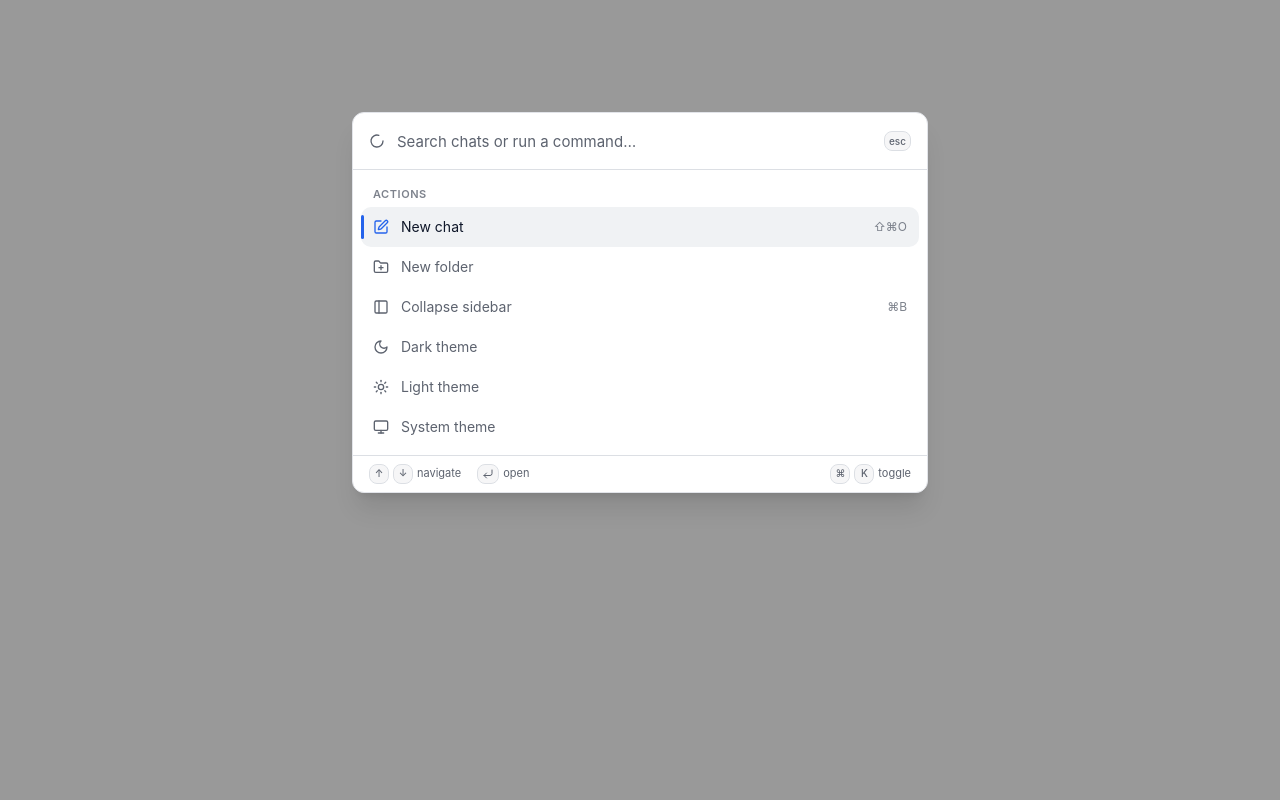
Scenario: CommandPalette › never shows the previous results as matches while a search is pending
Immediately after typing, the server search has not caught up yet.
In the dropdown: (634, 141) [397,113,872,169], type "pg"
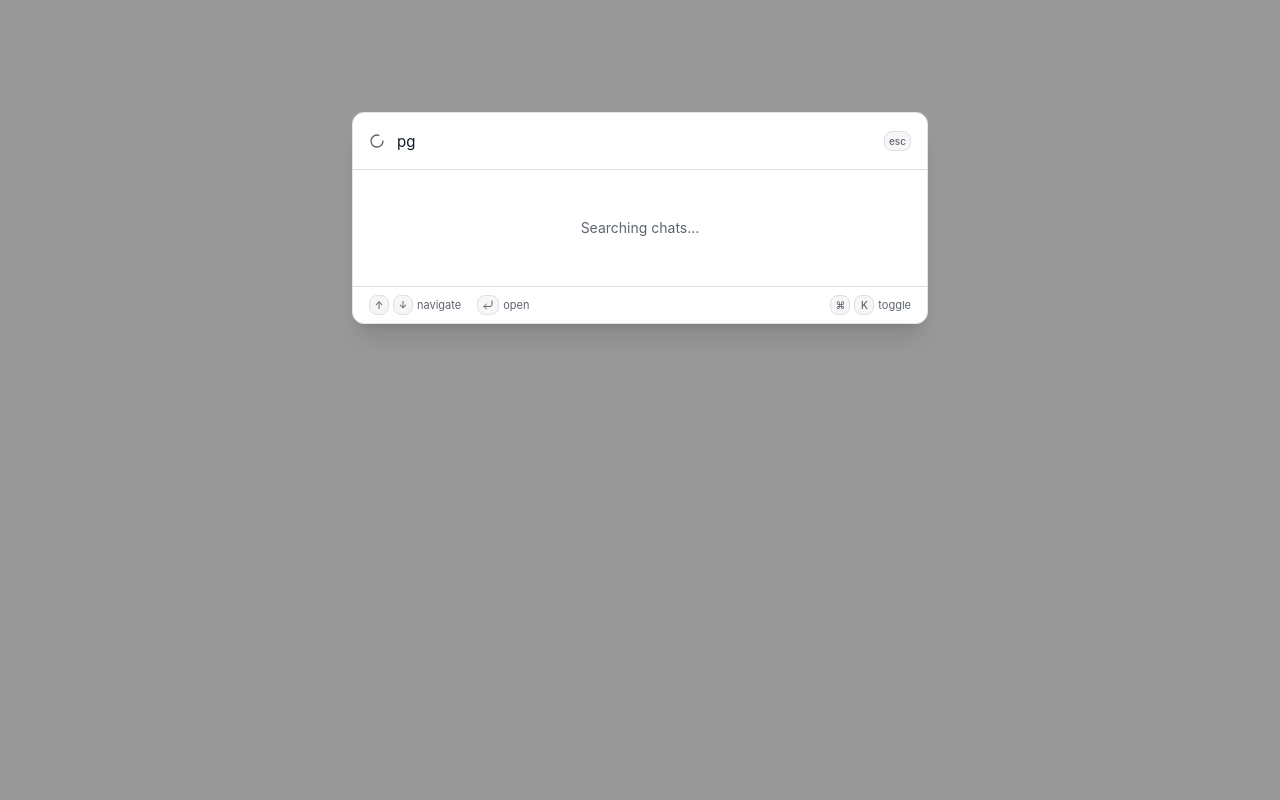
Check: the text "Searching chats…" is shown, box [581,219,699,236]
